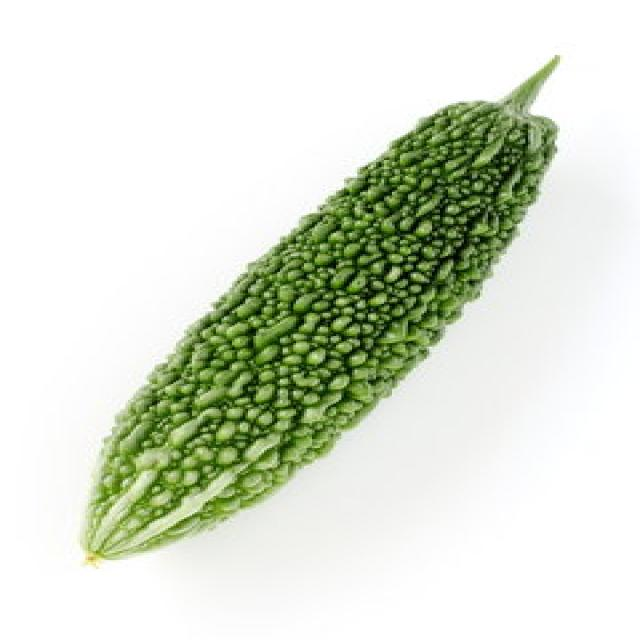Bitter_Gourd: (77, 53, 563, 566)
